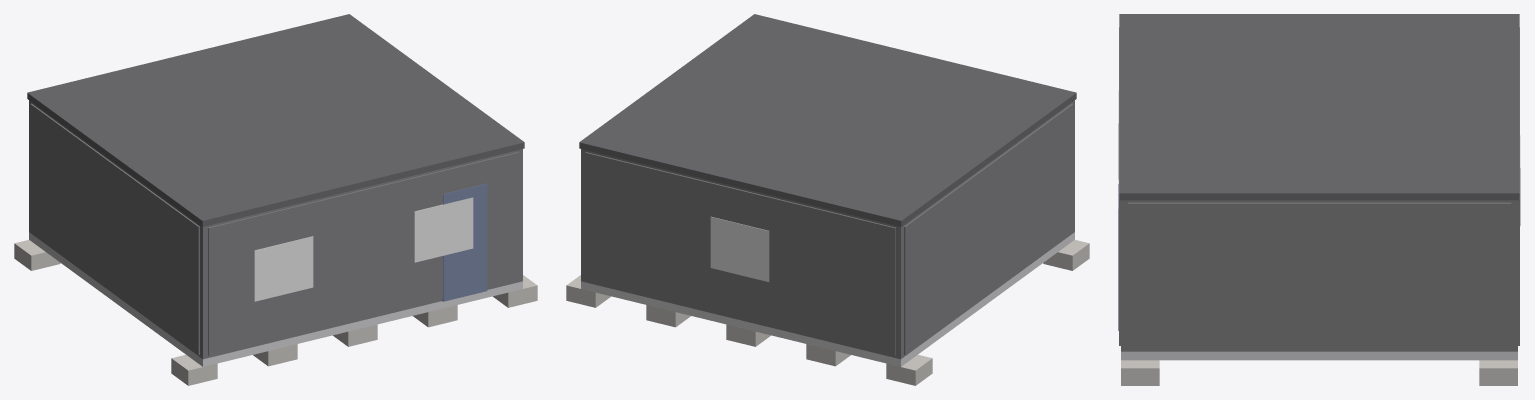
File: Studio-20-Base-CharcoalSilver-LOD0.glb
The picture shows the model from 3 angles, left to right: view 1: azimuth 30°, elevation 25°; view 2: azimuth 150°, elevation 25°; view 3: azimuth 270°, elevation 25°; orthographic projection. The views are drawn at different scales.
Parts seen in each view (by area): view 1: RoofMain, ExteriorPanelsStandard, WindowsStandard, FoundationBlocks, BaseFrame, ExteriorShell, EntryDoor; view 2: ExteriorPanelsStandard, RoofMain, FoundationBlocks, BaseFrame, ExteriorShell, WindowsStandard; view 3: RoofMain, ExteriorPanelsStandard, ExteriorShell, BaseFrame, FoundationBlocks.
Boxes of the visible parts, x1=… form: RoofMain: x1=27, y1=14, x2=524, y2=226; ExteriorPanelsStandard: x1=30, y1=103, x2=518, y2=355; WindowsStandard: x1=254, y1=197, x2=473, y2=301; FoundationBlocks: x1=14, y1=240, x2=537, y2=385; BaseFrame: x1=29, y1=232, x2=522, y2=366; ExteriorShell: x1=29, y1=100, x2=522, y2=359; EntryDoor: x1=442, y1=183, x2=487, y2=301; ExteriorPanelsStandard: x1=585, y1=103, x2=1073, y2=355; RoofMain: x1=579, y1=14, x2=1076, y2=226; FoundationBlocks: x1=566, y1=240, x2=1089, y2=385; BaseFrame: x1=581, y1=232, x2=1074, y2=366; ExteriorShell: x1=581, y1=100, x2=1074, y2=359; WindowsStandard: x1=710, y1=216, x2=769, y2=281; RoofMain: x1=1119, y1=14, x2=1519, y2=200; ExteriorPanelsStandard: x1=1119, y1=27, x2=1519, y2=349; ExteriorShell: x1=1121, y1=200, x2=1517, y2=351; BaseFrame: x1=1121, y1=351, x2=1517, y2=360; FoundationBlocks: x1=1121, y1=360, x2=1517, y2=385.
Size of the model in its own units: 7.14 by 3.17 by 6.24.
